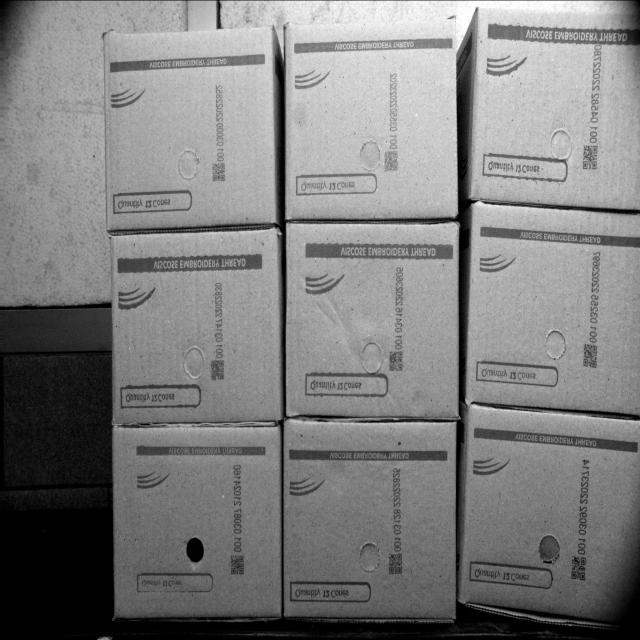cardboxes: (463, 201, 640, 405), (462, 412, 640, 612), (286, 223, 460, 419), (103, 30, 280, 222), (281, 420, 454, 613), (286, 22, 458, 216), (471, 7, 640, 200), (110, 237, 284, 423), (113, 426, 281, 617)
